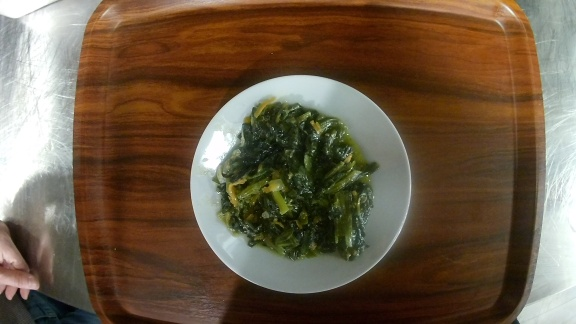ispanak: (185, 70, 414, 295)
